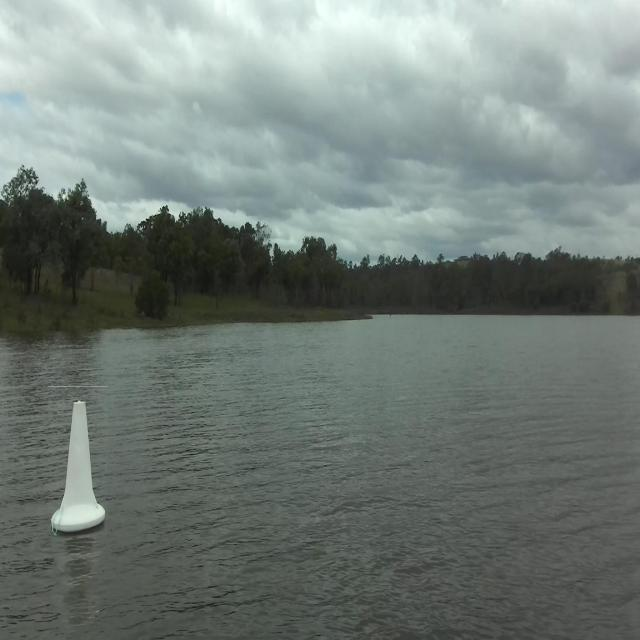White_Buoy: (60, 404, 96, 528)
